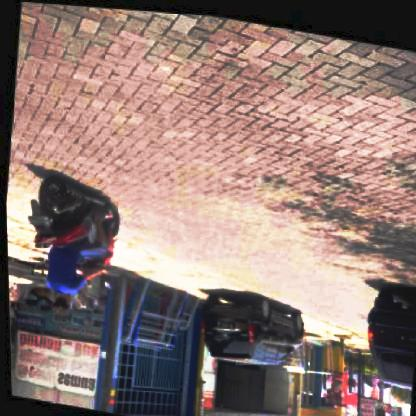Traffic Light -Red-: (370, 401, 387, 415)
